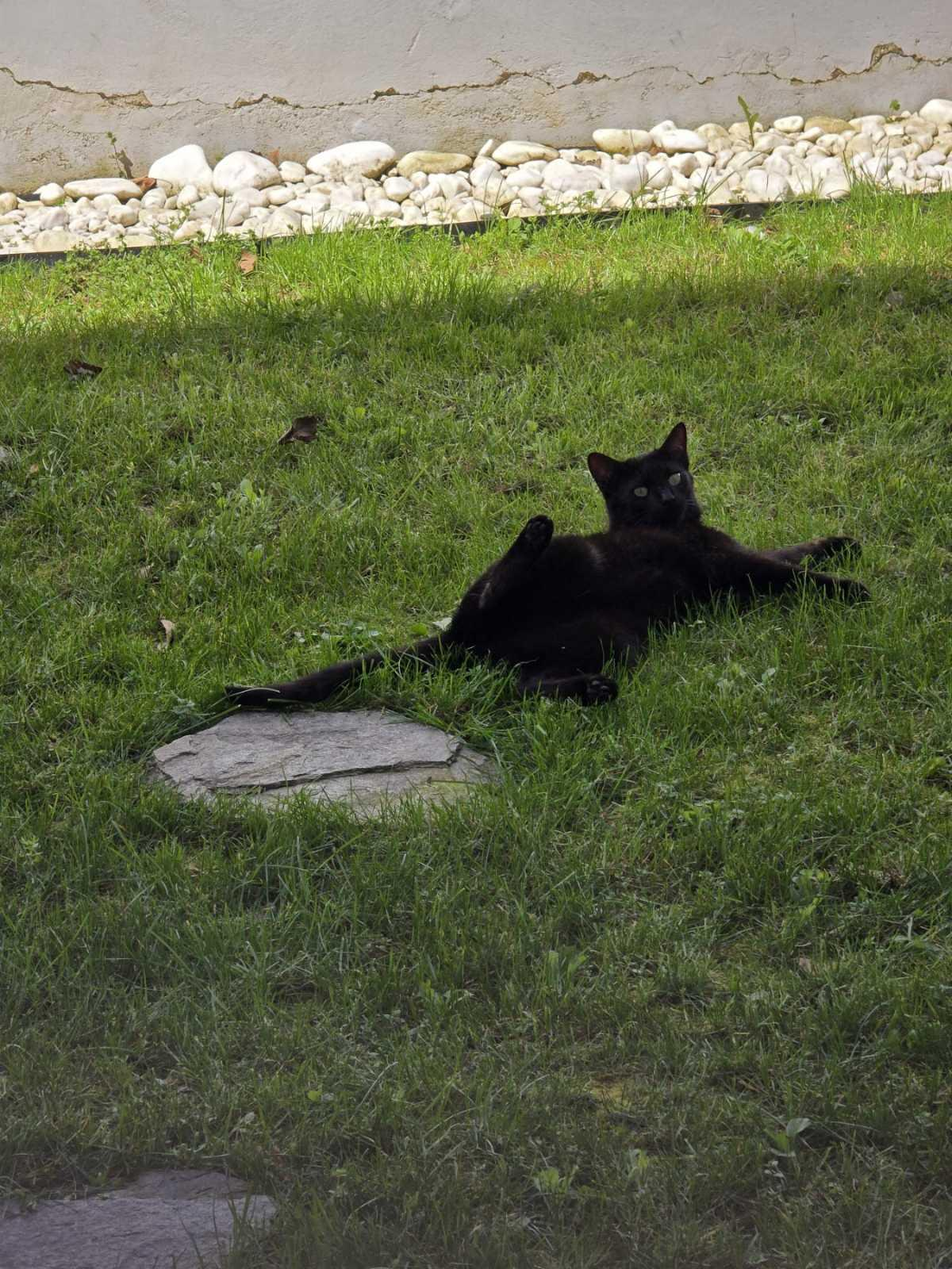macka: (198, 419, 871, 720)
